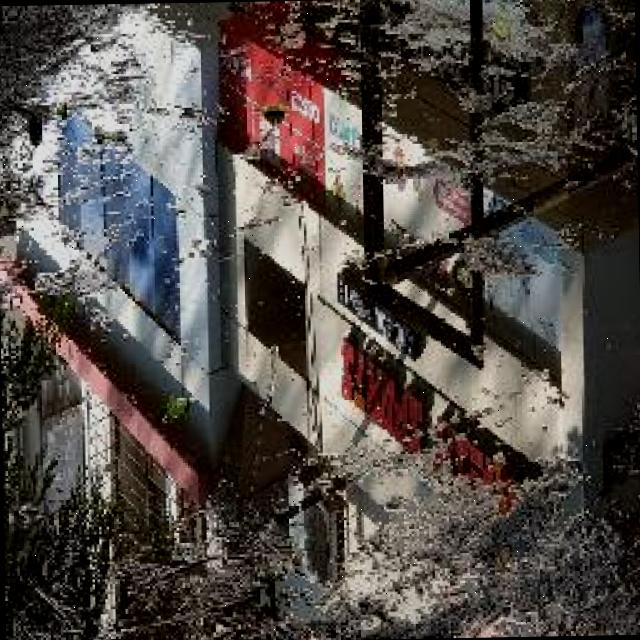waterlogging: (0, 52, 577, 612)
